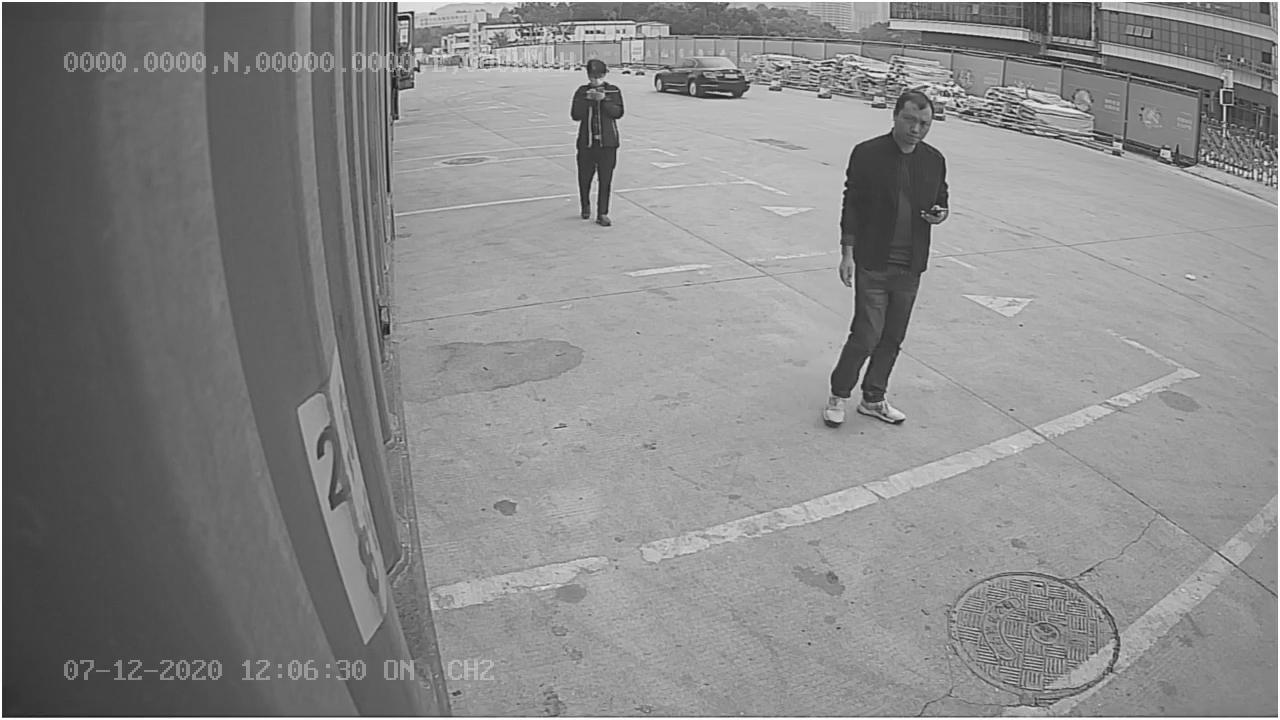person: (817, 86, 952, 433)
